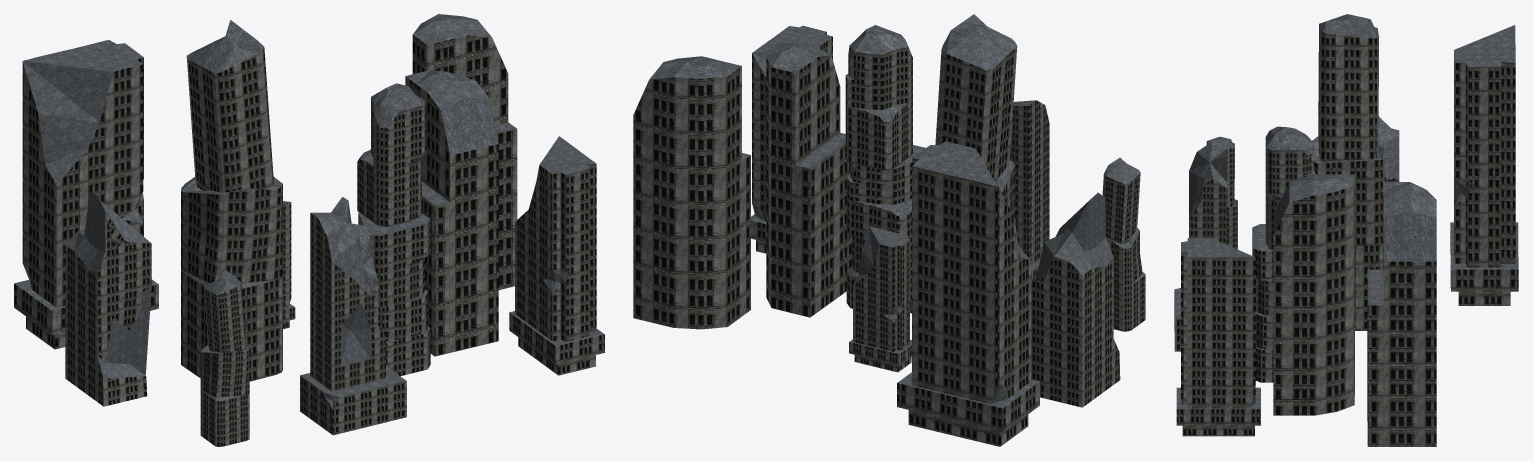
File: Building_BrokenSet.fbx
3 renders of one model, left to right at view 1: azimuth 30°, elevation 25°; view 2: azimuth 150°, elevation 25°; view 3: azimuth 270°, elevation 25°, orthographic. The views are drawn at different scales.
Parts seen in each view (by area): view 1: SMO_BG50_BUILD_UTZ_Set02; view 2: SMO_BG50_BUILD_UTZ_Set02; view 3: SMO_BG50_BUILD_UTZ_Set02.
Boxes of the visible parts, bbox=[...] form: SMO_BG50_BUILD_UTZ_Set02: bbox=[14, 14, 604, 446]; SMO_BG50_BUILD_UTZ_Set02: bbox=[633, 14, 1145, 446]; SMO_BG50_BUILD_UTZ_Set02: bbox=[1174, 14, 1518, 446].
Size of the model in its own units: 99548 by 73313 by 75637.
